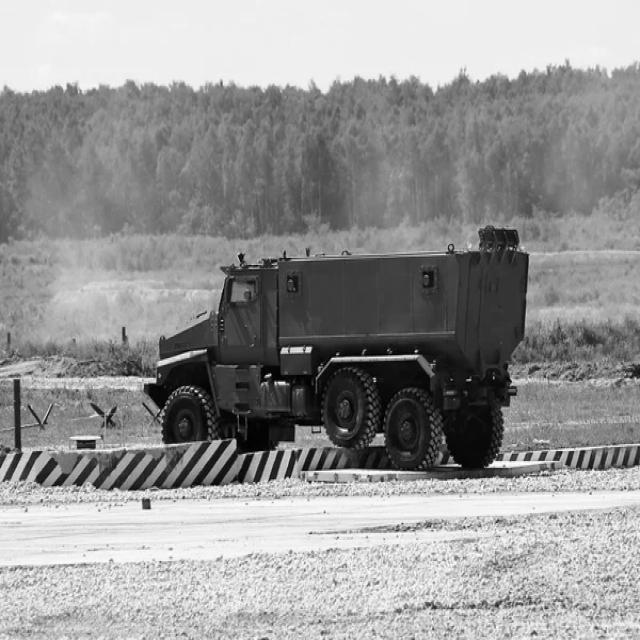Truck: (149, 226, 530, 470)
